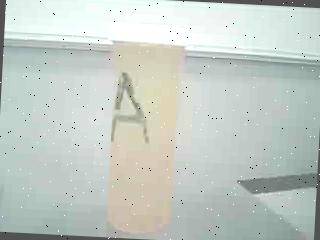Bottle A: (89, 13, 193, 240)
